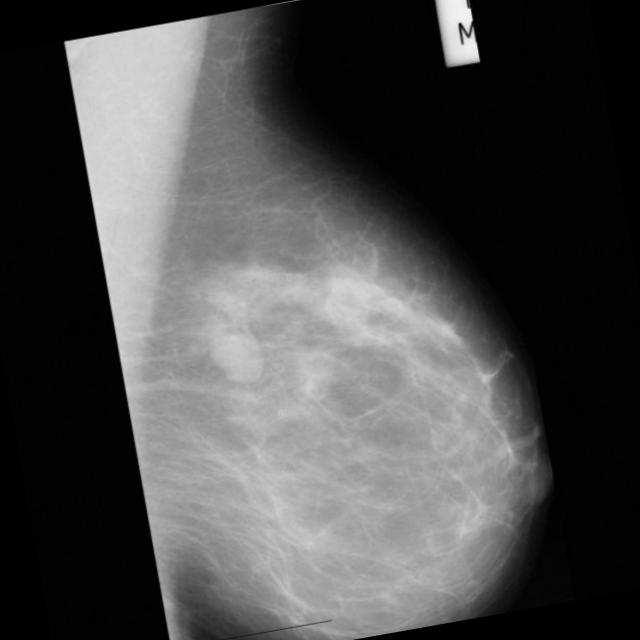CIRC: (201, 321, 272, 393)
